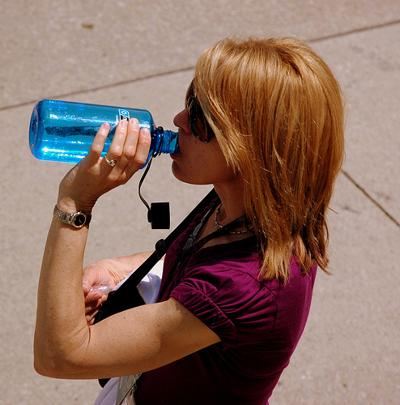person: (33, 34, 347, 405)
